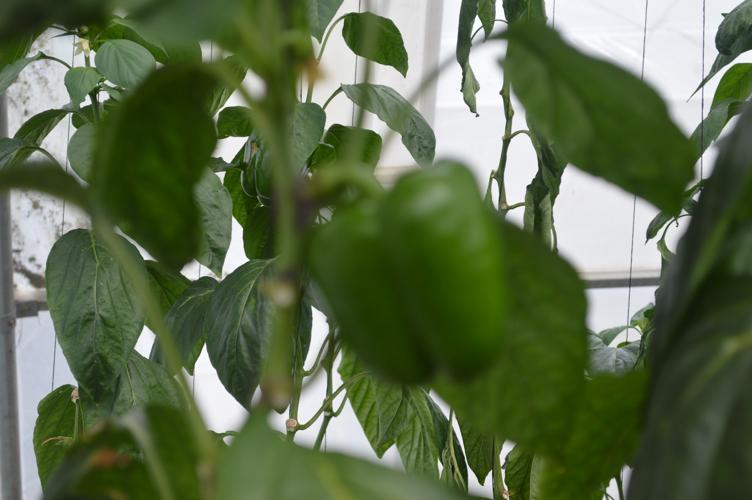BellPepper: (310, 160, 509, 382)
